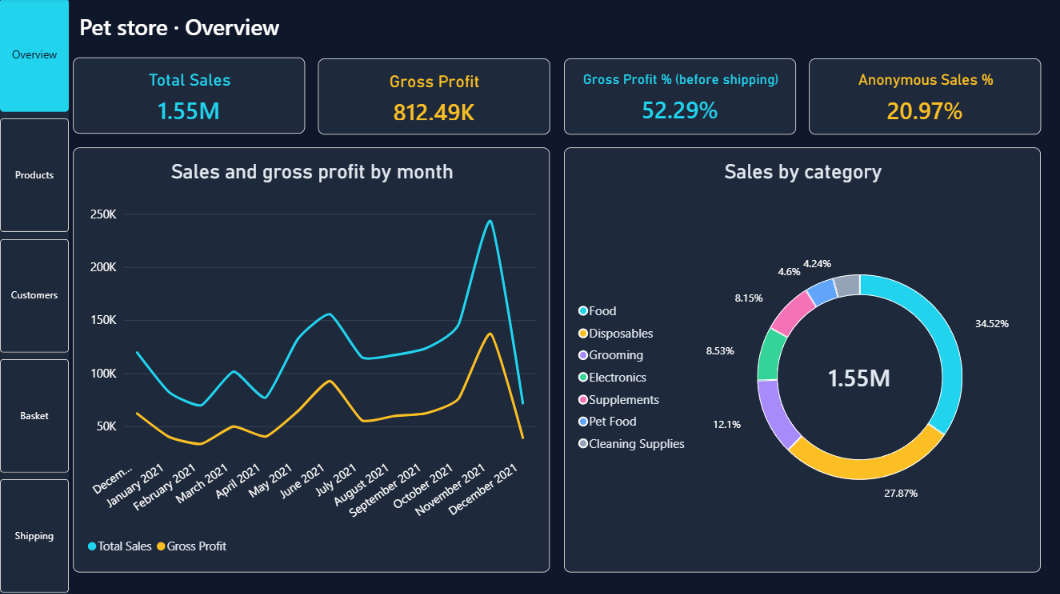

The dashboard page shown, as its layout file describes it:
{"tool":"powerbi","page":{"name":"Overview","canvas":[1280,720],"ordinal":0},"visuals":[{"type":"shape","box":[0,0,83,720],"z":1},{"type":"textbox","box":[63.6,16.2,304.5,53.7],"z":2},{"type":"card","title":"Total Sales","fields":{"Values":["Sales.Total Sales"]},"box":[88,71,280,92],"z":3},{"type":"card","title":"Gross Profit","fields":{"Values":["Sales.Gross Profit"]},"box":[384,72,280,92],"z":4},{"type":"card","title":"Gross Profit % (before shipping)","fields":{"Values":["Sales.Gross Profit %"]},"box":[680,72,280,92],"z":5},{"type":"card","title":"Anonymous Sales %","fields":{"Values":["Sales.Anonymous Sales %"]},"box":[976,72,280,92],"z":6},{"type":"lineChart","title":"Sales and gross profit by month","fields":{"Category":["Sales.Month"],"Y":["Sales.Total Sales","Sales.Gross Profit"]},"box":[88.1,179.8,575.5,512.7],"z":7},{"type":"donutChart","title":"Sales by category","fields":{"Category":["Products.Category"],"Y":["Sales.Total Sales"]},"box":[680.4,179.8,575.5,512.7],"z":8},{"type":"pageNavigator","box":[0,0,83.2,720.2],"z":9}]}

Visuals, with their boxes in screenshot pixels (x1, y1, x2, y2), scaled from the page's 1280x720 canvas onto the 1060x594 screenshot:
shape: region(0, 0, 69, 593)
textbox: region(53, 13, 305, 58)
"Total Sales" card: region(73, 59, 305, 134)
"Gross Profit" card: region(318, 59, 550, 135)
"Gross Profit % (before shipping)" card: region(563, 59, 795, 135)
"Anonymous Sales %" card: region(808, 59, 1040, 135)
"Sales and gross profit by month" lineChart: region(73, 148, 550, 571)
"Sales by category" donutChart: region(563, 148, 1040, 571)
pageNavigator: region(0, 0, 69, 593)
